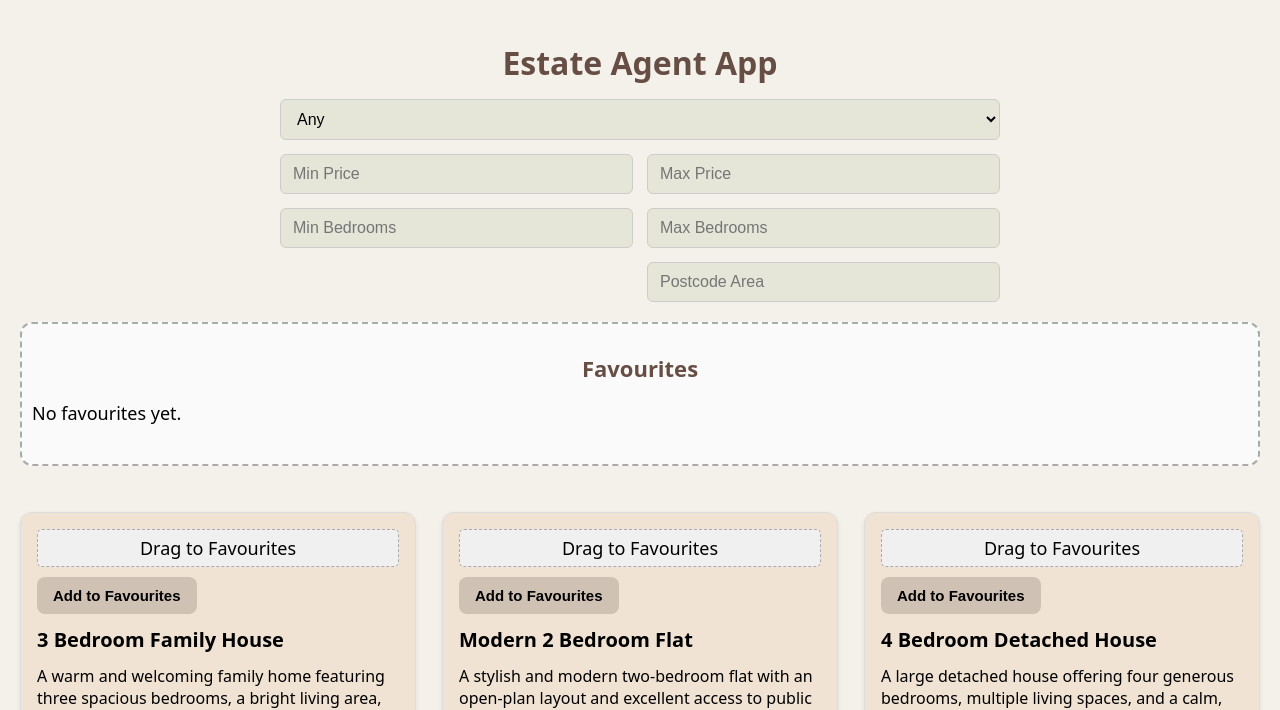
Test case: can add a property to favourites
Click the 1st button "Add to Favourites": [117, 596] box 37,577 -> 196,614
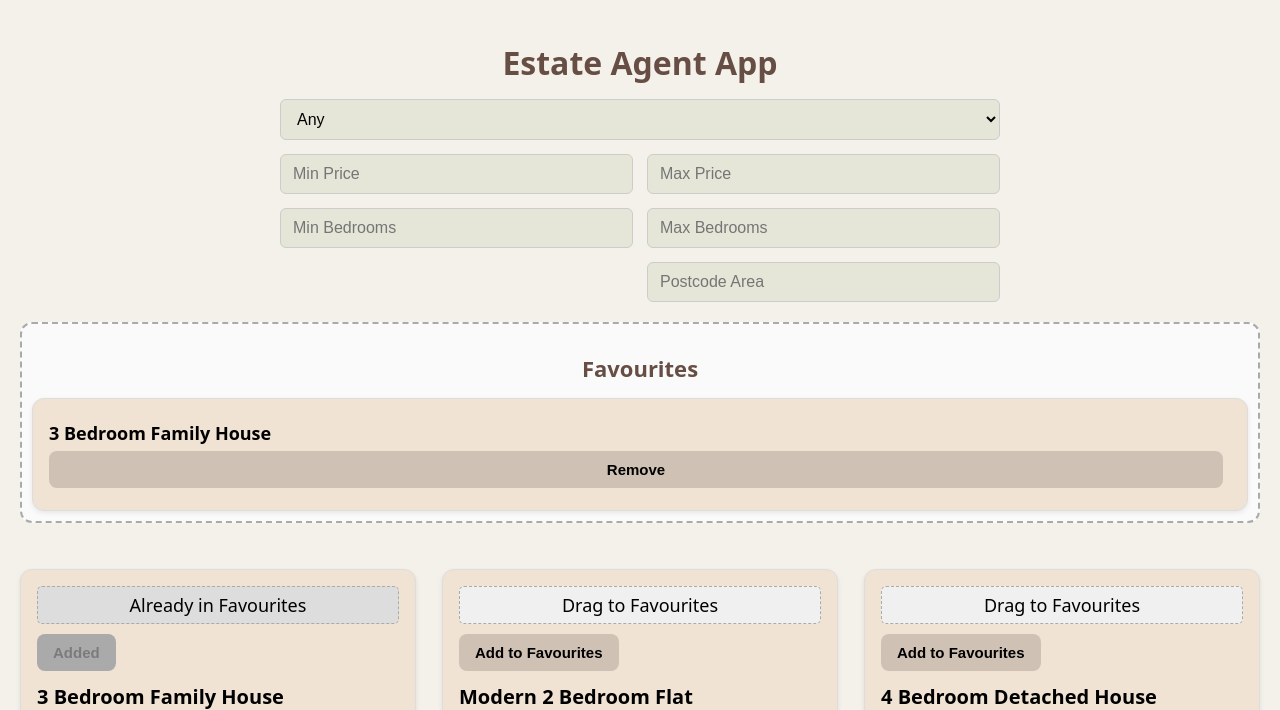
Expected: the text "Already in Favourites" is shown, 37,586 -> 399,624
